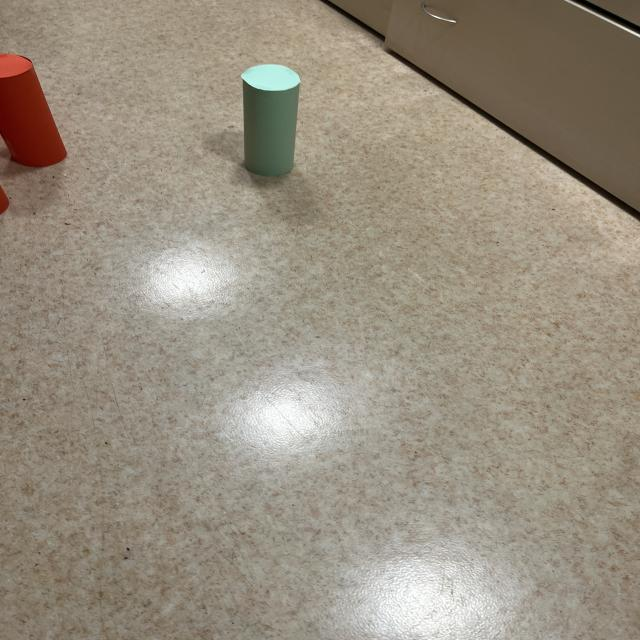meta: (241, 65, 300, 176)
